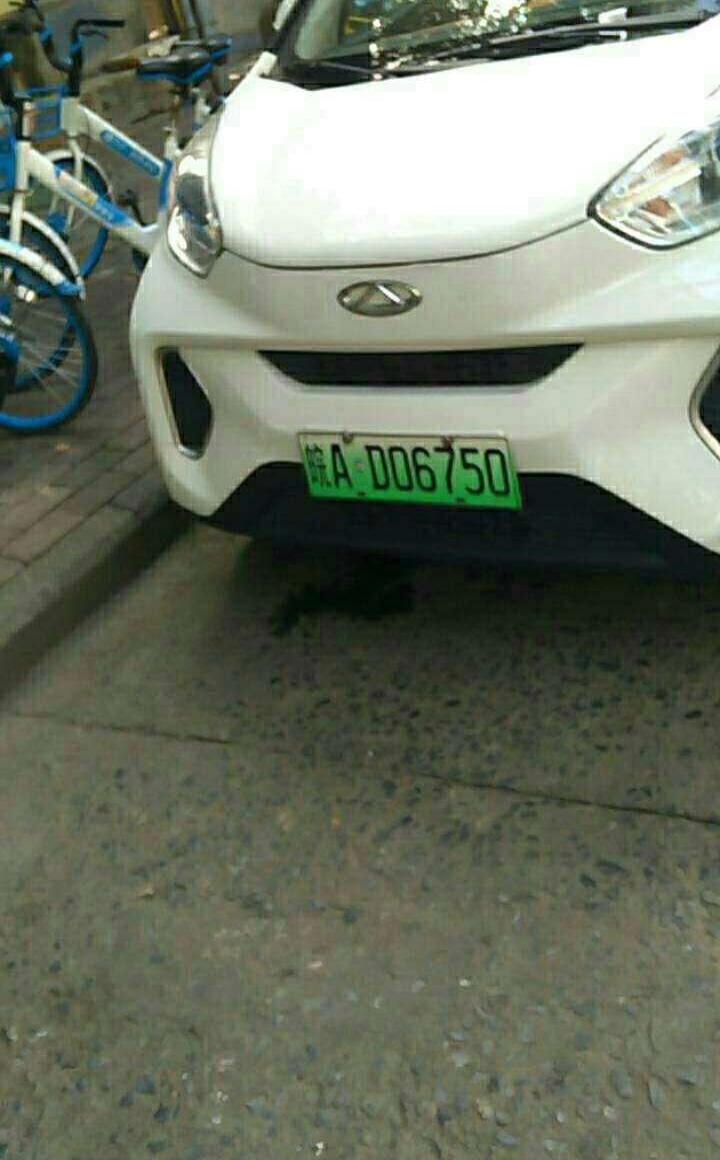car_id: (300, 433, 518, 507)
